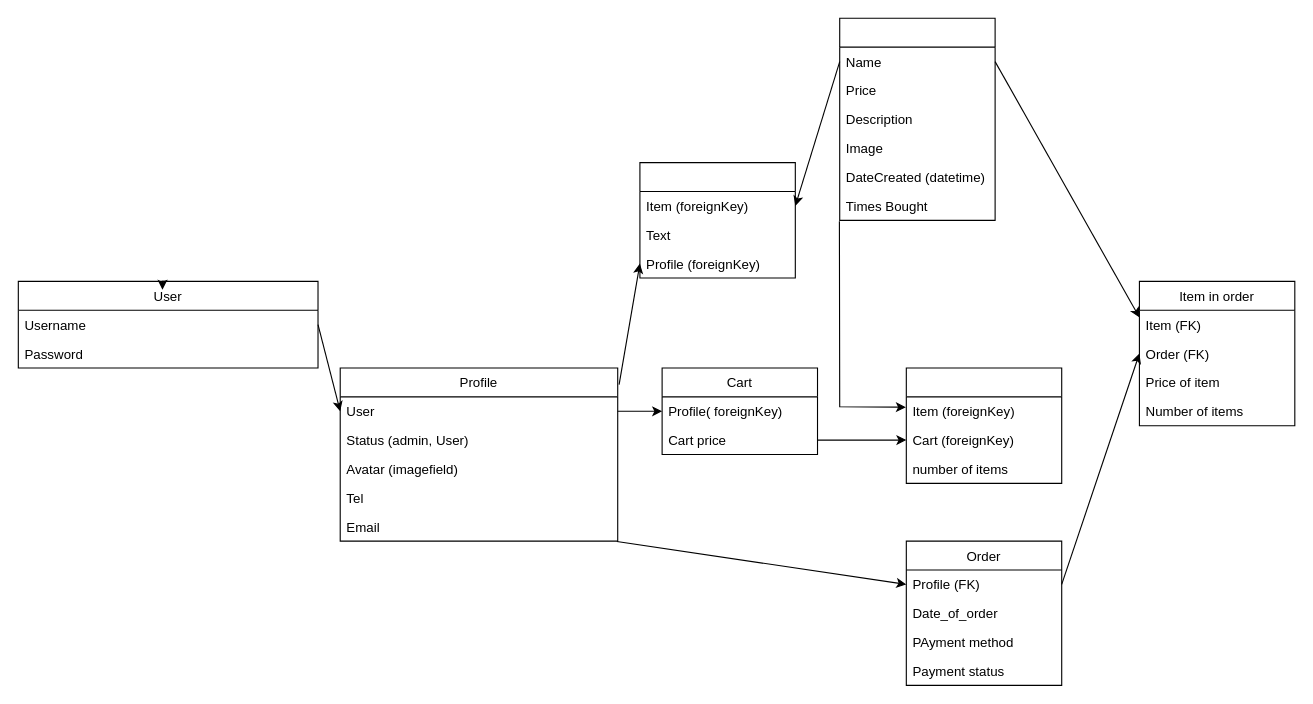
Image size: 1313x704. Some labels were removed from this diagram. Here are the shapes that lost their labels. From the top down, the box of each, then its label:
(839, 17, 995, 220): Item
(639, 162, 795, 278): Review
(905, 367, 1062, 483): Items in cart
